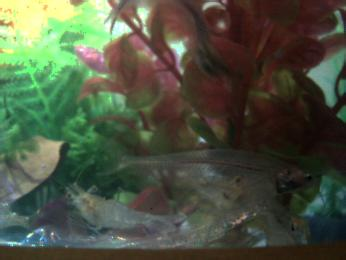glassfish: (99, 137, 314, 190), (103, 1, 232, 85)
siberian prawn: (65, 179, 179, 233)
